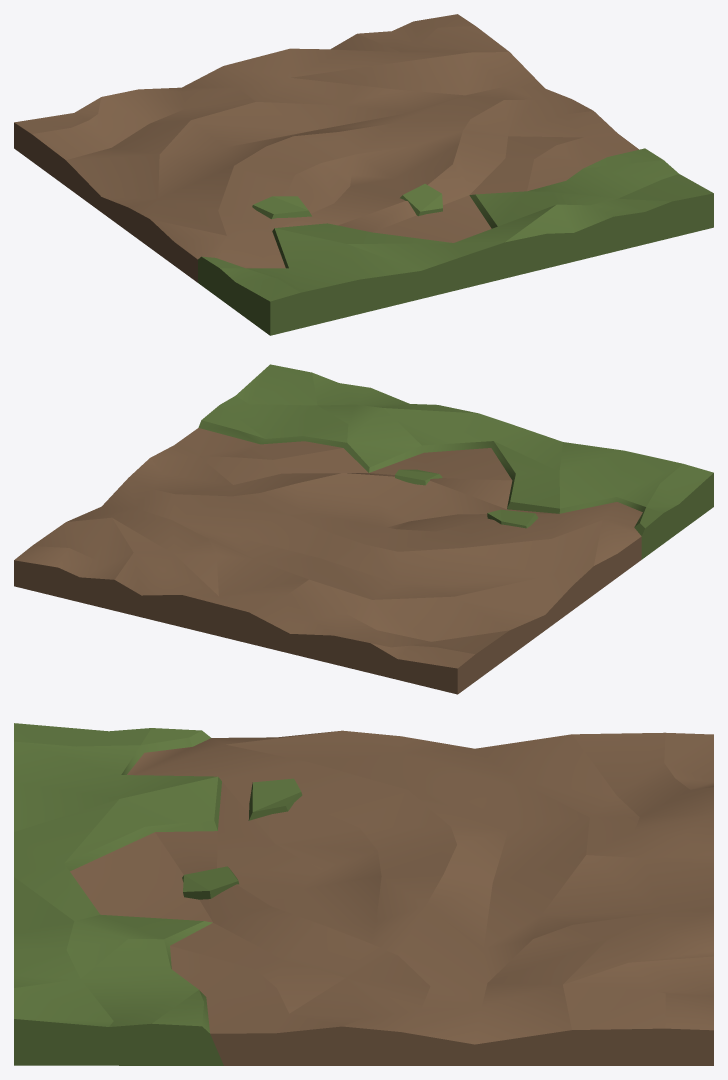
Rendered from Ground_Edge_B.glb.
3 views of the same model, one above another, from view 1: azimuth 30°, elevation 25°; view 2: azimuth 150°, elevation 25°; view 3: azimuth 270°, elevation 25° (orthographic). The views are drawn at different scales.
Parts seen in each view (by area): view 1: Ground_Edge_B; view 2: Ground_Edge_B; view 3: Ground_Edge_B.
Boxes of the visible parts, left/top/right/bottom form: Ground_Edge_B: left=14, top=14, right=713, bottom=335; Ground_Edge_B: left=14, top=364, right=713, bottom=694; Ground_Edge_B: left=14, top=723, right=713, bottom=1065.
Bounding box in the file's own units: 1.47 × 0.1262 × 1.47.
